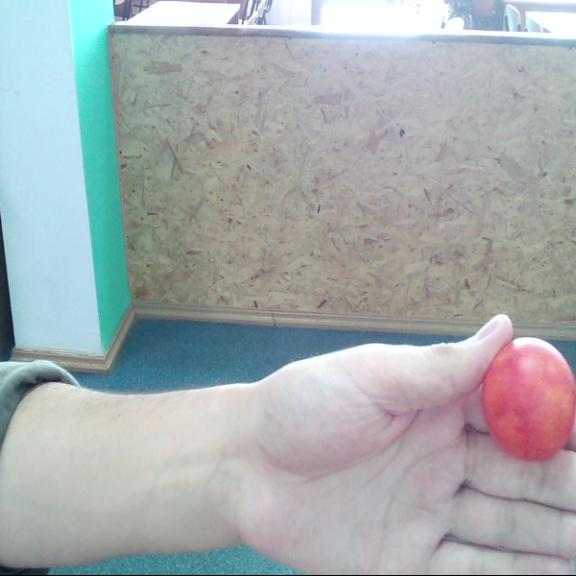ball: (486, 341, 573, 461)
